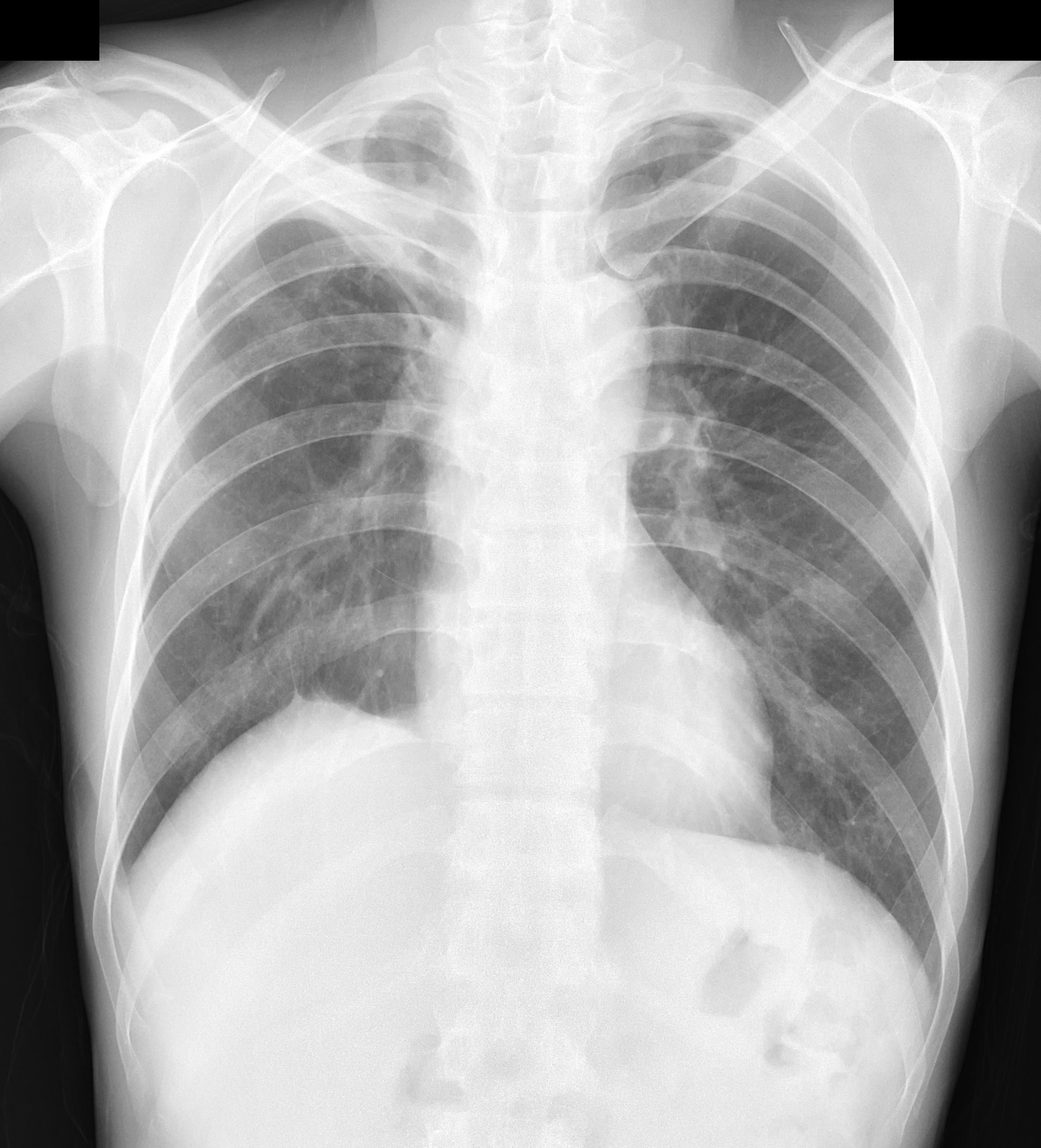Pleural thickening: (663, 100, 764, 132)
Pulmonary fibrosis: (218, 85, 481, 340)
